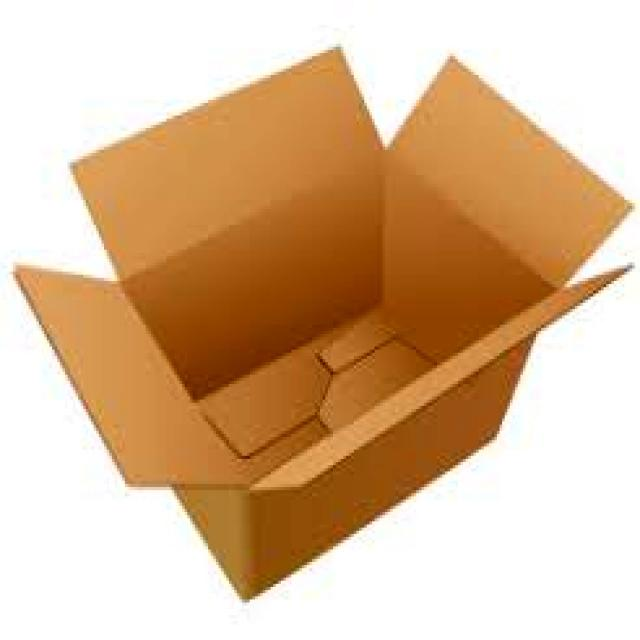Cardboard: (3, 37, 640, 626)
